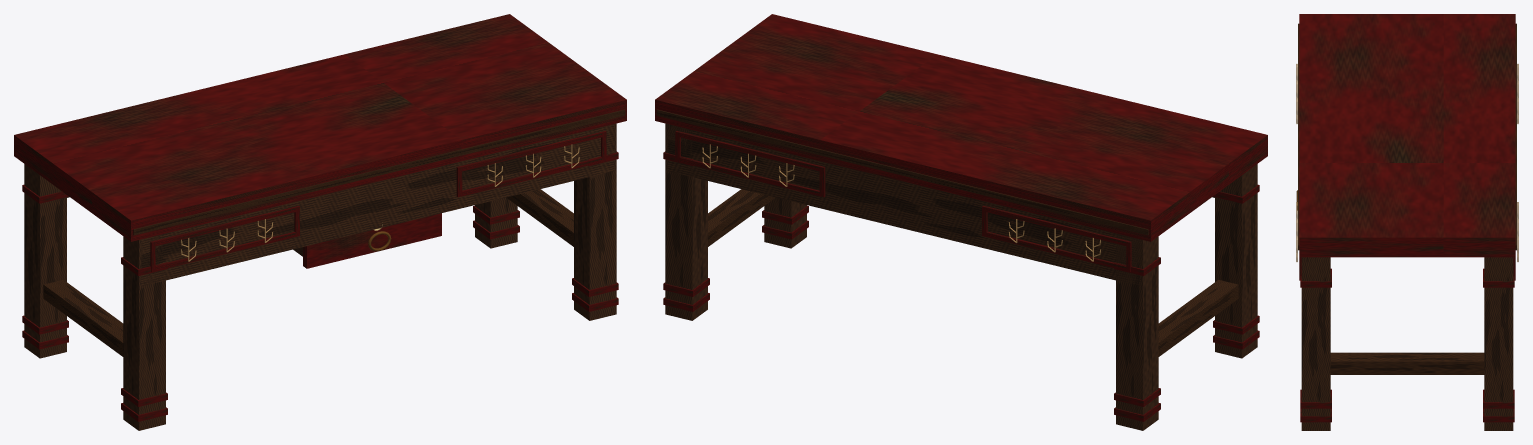
The model's file is altar_table.glb.
The picture shows the model from 3 angles, left to right: view 1: azimuth 30°, elevation 25°; view 2: azimuth 150°, elevation 25°; view 3: azimuth 270°, elevation 25°; orthographic projection. The views are drawn at different scales.
Visible parts, largest first — view 1: Top, ApronF, Art_BurntLacquer, Art_WarmWood, Leg_-100_38, Leg_-100_-38, Leg_100_38, DrawerFace, Leg_100_-38, Art_OldGoldThread; view 2: Top, ApronB, Art_BurntLacquer, Art_WarmWood, Leg_-100_-38, Leg_-100_38, Leg_100_-38, Leg_100_38, Art_OldGoldThread; view 3: Top, Leg_100_-38, Leg_100_38, Art_WarmWood, Art_BurntLacquer, Art_OldGoldThread.
Boxes of the visible parts, x1,y1,x2,y2 form: Top: (14, 14, 626, 241); ApronF: (141, 124, 614, 286); Art_BurntLacquer: (22, 131, 618, 421); Art_WarmWood: (43, 109, 625, 356); Leg_-100_38: (123, 236, 165, 430); Leg_-100_-38: (24, 164, 66, 358); Leg_100_38: (574, 123, 616, 320); DrawerFace: (303, 213, 441, 268); Leg_100_-38: (475, 197, 517, 248); Art_OldGoldThread: (181, 144, 579, 261); Top: (655, 14, 1267, 241); ApronB: (667, 127, 1140, 285); Art_BurntLacquer: (663, 131, 1259, 421); Art_WarmWood: (656, 109, 1238, 356); Leg_-100_-38: (1116, 233, 1158, 430); Leg_-100_38: (1215, 164, 1257, 358); Leg_100_-38: (665, 123, 707, 320); Leg_100_38: (764, 197, 806, 248); Art_OldGoldThread: (702, 144, 1100, 261); Top: (1299, 14, 1515, 257); Leg_100_-38: (1484, 257, 1513, 430); Leg_100_38: (1301, 257, 1330, 430); Art_WarmWood: (1298, 23, 1516, 374); Art_BurntLacquer: (1299, 257, 1515, 422); Art_OldGoldThread: (1296, 64, 1518, 261).
Size of what is drawn, in the model's own units: 2.2 by 0.905 by 0.9229.
Materials: 7 (5 with a texture image).
